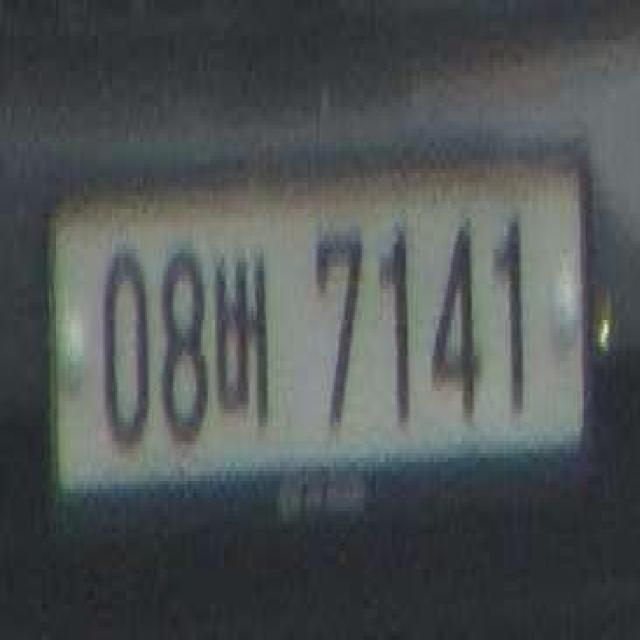illegal_plate: (53, 150, 596, 532)
